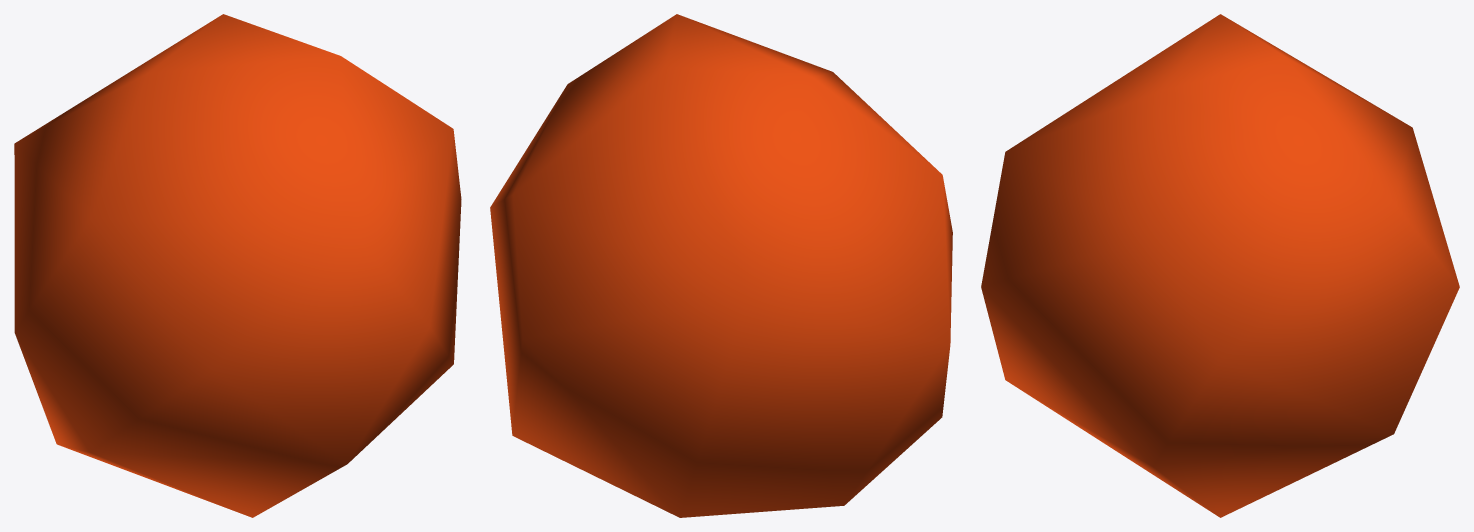
Rendered from Apple.fbx.
3 views of the same model, side by side, from view 1: azimuth 30°, elevation 25°; view 2: azimuth 150°, elevation 25°; view 3: azimuth 270°, elevation 25° (orthographic). The views are drawn at different scales.
Parts seen in each view (by area): view 1: Apple; view 2: Apple; view 3: Apple.
Part boxes in pixels (x1,y1,x2,y2): Apple: [14, 14, 461, 517]; Apple: [490, 14, 952, 517]; Apple: [981, 14, 1459, 517].
Size of the model in its own units: 41.76 by 39.77 by 39.71.
